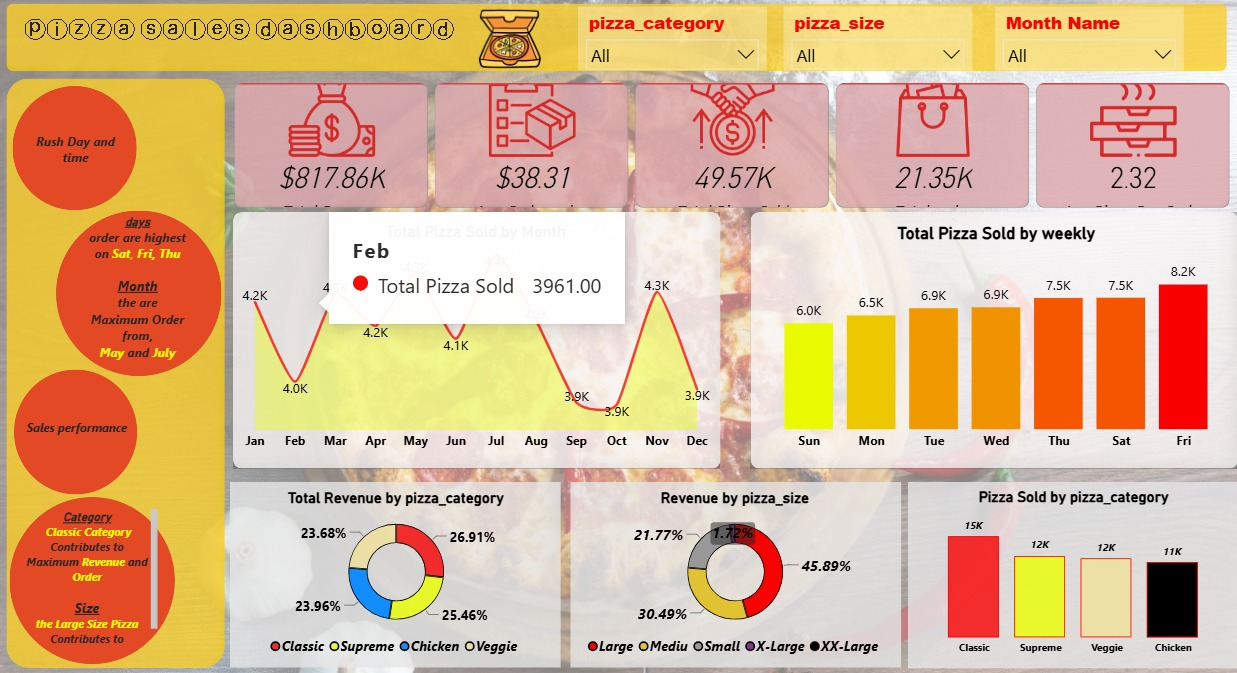

The page's visual inventory and layout, read from the dashboard file:
{"tool":"powerbi","page":{"name":"Home","canvas":[1500,820],"ordinal":0},"visuals":[{"type":"shape","box":[4.1,0,1491.8,99.9],"z":0},{"type":"shape","box":[3.3,90,281.7,730],"z":1000},{"type":"cardVisual","fields":{"Data":["_Measure Table.Total Revenue","_Measure Table.Avg Order value","_Measure Table.Total Pizza Sold","_Measure Table.Total order","_Measure Table.Avg Pizza Per Order"]},"box":[283.3,99.9,1216.7,161],"z":2000},{"type":"textbox","box":[16.3,22.4,560.5,51],"z":3000},{"type":"image","box":[578,8.2,85,85],"z":4000},{"type":"shape","box":[285.3,260.9,589,309.8],"z":5000},{"type":"lineChart","title":"Total Pizza Sold by Month","fields":{"Category":["Date table.Month Name"],"Y":["_Measure Table.Total Pizza Sold"]},"box":[287.4,273.1,582.9,283.3],"z":6000},{"type":"shape","box":[911,260.9,589,309.8],"z":7000},{"type":"columnChart","title":"Total Pizza Sold by weekly","fields":{"Category":["Date table.Day Name"],"Y":["_Measure Table.Total Pizza Sold"]},"box":[917.1,273.1,582.9,283.3],"z":8000},{"type":"shape","box":[283.3,587,399.5,224.2],"z":9000},{"type":"donutChart","fields":{"Y":["_Measure Table.Total Revenue"],"Category":["pizza_sales.pizza_category"]},"box":[293.5,595.1,379.1,209.9],"z":10000},{"type":"shape","box":[692.9,587,399.5,224.2],"z":11000},{"type":"donutChart","title":" Revenue by pizza_size","fields":{"Y":["_Measure Table.Total Revenue"],"Category":["pizza_sales.pizza_size"]},"box":[703.1,595.1,379.1,209.9],"z":12000},{"type":"shape","box":[1101.7,586.7,398.3,225],"z":13000},{"type":"columnChart","title":"Pizza Sold by pizza_category","fields":{"Category":["pizza_sales.pizza_category"],"Y":["_Measure Table.Total Pizza Sold"]},"box":[1111.7,593.3,378.3,210],"z":14000},{"type":"shape","box":[20.1,108.1,150,150],"z":15000},{"type":"textbox","box":[28.5,159,134.5,53],"z":16000},{"type":"shape","box":[72.2,258.6,200,200],"z":17000},{"type":"textbox","box":[106.5,256.6,128.4,201.8],"z":18000},{"type":"shape","box":[16.3,605.3,199.7,201.8],"z":19000},{"type":"shape","box":[22.4,450.4,148.8,150.8],"z":20000},{"type":"textbox","box":[24.5,505.4,144.7,38.7],"z":21000},{"type":"textbox","box":[28.5,613.5,171.2,173.2],"z":22000},{"type":"slicer","fields":{"Values":["pizza_sales.pizza_category"]},"box":[703.1,12.2,228.3,77.4],"z":23000},{"type":"slicer","fields":{"Values":["pizza_sales.pizza_size"]},"box":[951.8,12.2,228.3,77.4],"z":24000},{"type":"slicer","fields":{"Values":["Date table.Month Name"]},"box":[1206.5,12.2,228.3,77.4],"z":25000}]}

Visuals, with their boxes in screenshot pixels (x1, y1, x2, y2), scaled from the page's 1500x820 canvas onto the 1237x673 screenshot:
shape: bbox=(3, 0, 1234, 82)
shape: bbox=(3, 74, 235, 672)
cardVisual - _Measure Table.Total Revenue x _Measure Table.Avg Order value: bbox=(234, 82, 1236, 214)
textbox: bbox=(13, 18, 476, 60)
image: bbox=(477, 7, 547, 76)
shape: bbox=(235, 214, 721, 468)
"Total Pizza Sold by Month" lineChart: bbox=(237, 224, 718, 457)
shape: bbox=(751, 214, 1236, 468)
"Total Pizza Sold by weekly" columnChart: bbox=(756, 224, 1236, 457)
shape: bbox=(234, 482, 563, 666)
donutChart - _Measure Table.Total Revenue x pizza_sales.pizza_category: bbox=(242, 488, 555, 661)
shape: bbox=(571, 482, 901, 666)
" Revenue by pizza_size" donutChart: bbox=(580, 488, 892, 661)
shape: bbox=(909, 482, 1236, 666)
"Pizza Sold by pizza_category" columnChart: bbox=(917, 487, 1229, 659)
shape: bbox=(17, 89, 140, 212)
textbox: bbox=(24, 130, 134, 174)
shape: bbox=(60, 212, 224, 376)
textbox: bbox=(88, 211, 194, 376)
shape: bbox=(13, 497, 178, 662)
shape: bbox=(18, 370, 141, 493)
textbox: bbox=(20, 415, 140, 447)
textbox: bbox=(24, 504, 165, 646)
slicer - pizza_sales.pizza_category: bbox=(580, 10, 768, 74)
slicer - pizza_sales.pizza_size: bbox=(785, 10, 973, 74)
slicer - Date table.Month Name: bbox=(995, 10, 1183, 74)
